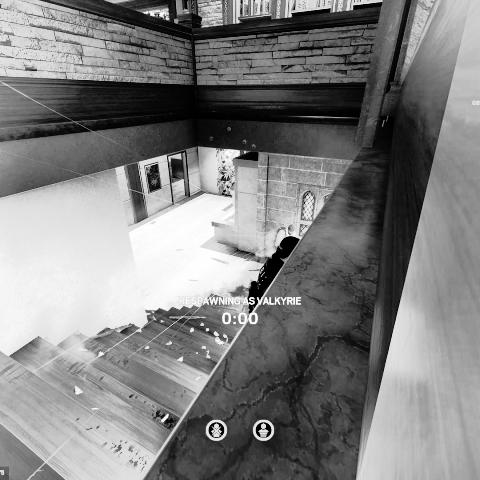Character: (247, 235, 300, 315), (274, 224, 300, 250)
Head: (273, 236, 300, 258), (287, 224, 295, 235)
